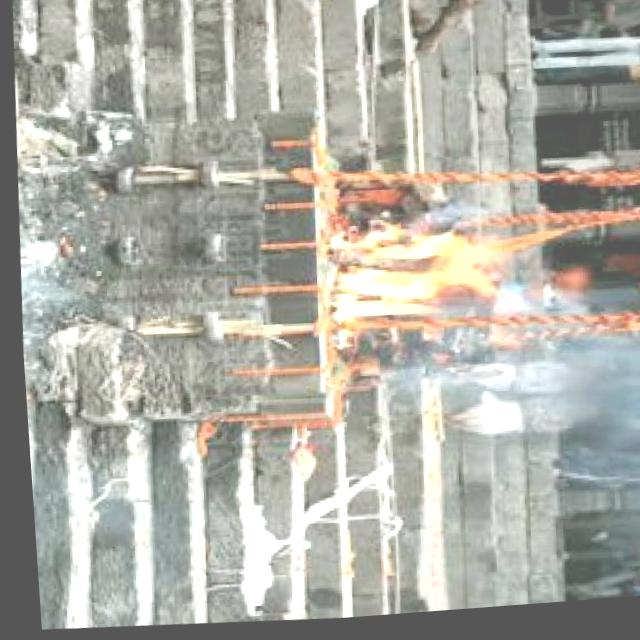helmet: (320, 224, 494, 331)
